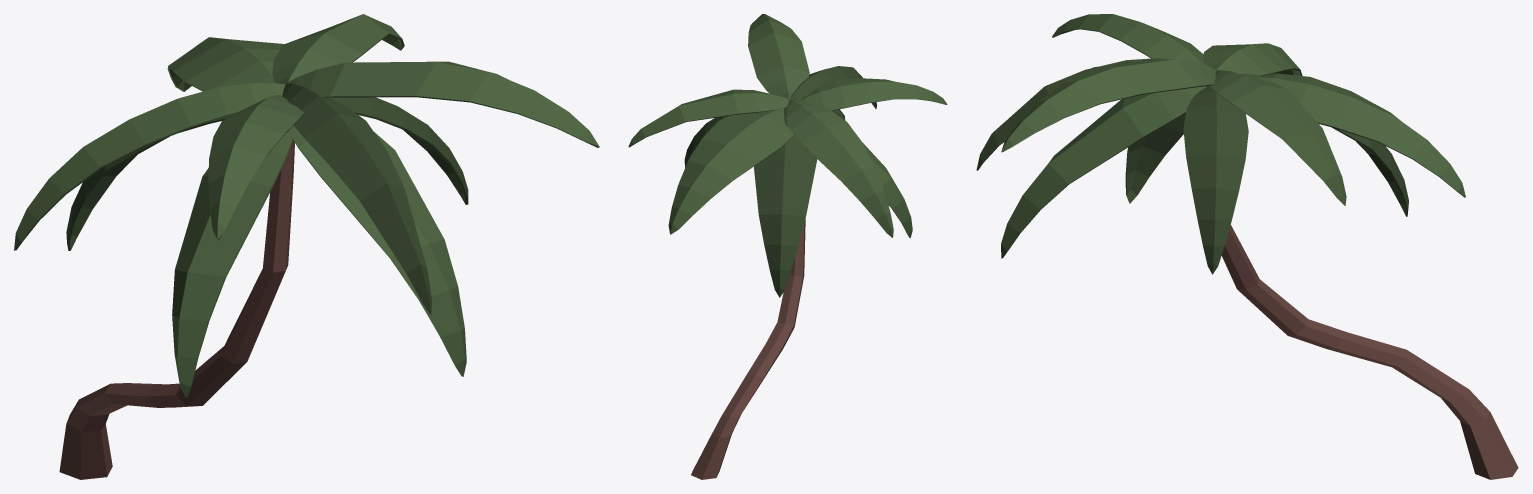
Rendered from palm2.glb.
The picture shows the model from 3 angles, left to right: view 1: azimuth 30°, elevation 25°; view 2: azimuth 150°, elevation 25°; view 3: azimuth 270°, elevation 25°; orthographic projection. The views are drawn at different scales.
Visible parts, largest first — view 1: PalmTree_2; view 2: PalmTree_2; view 3: PalmTree_2.
Part boxes in pixels (x1,y1,x2,y2): PalmTree_2: (14,14,599,479); PalmTree_2: (628,14,947,479); PalmTree_2: (976,14,1518,479).
Bounding box in the file's own units: 2.32 × 2.91 × 3.18.
